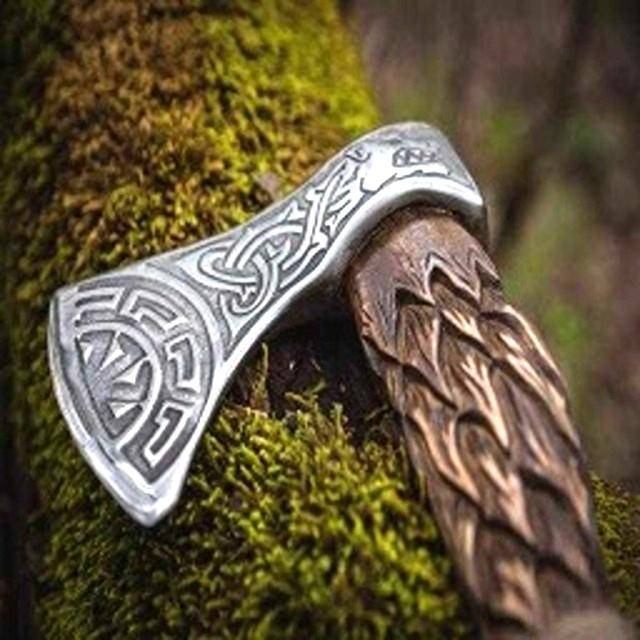ax: (29, 104, 629, 640)
